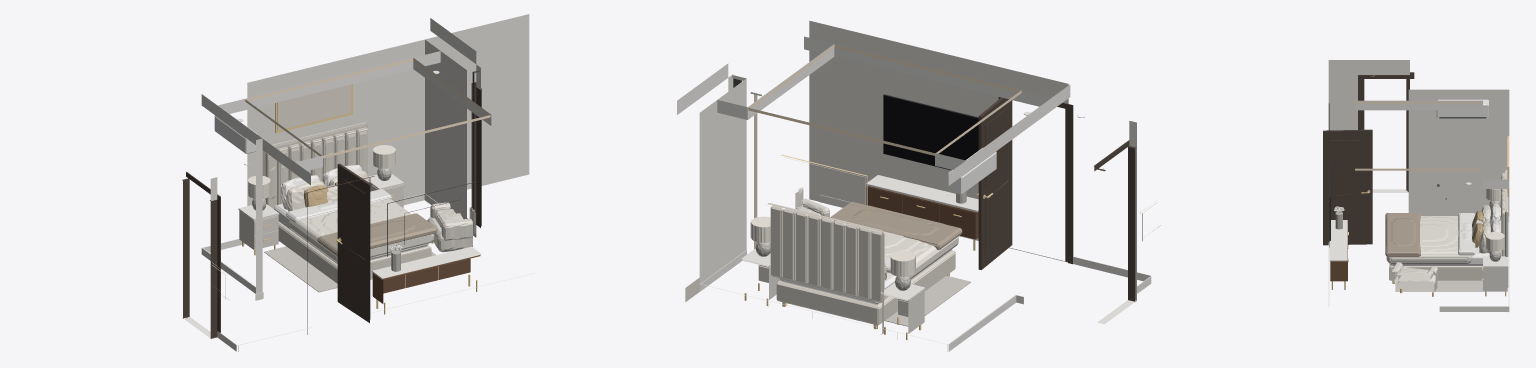
Rendered from MASTER.glb.
3 renders of one model, left to right at view 1: azimuth 30°, elevation 25°; view 2: azimuth 150°, elevation 25°; view 3: azimuth 270°, elevation 25°, orthographic. The views are drawn at different scales.
Parts seen in each view (by area): view 1: WEB_MASTER; view 2: WEB_MASTER; view 3: WEB_MASTER.
Boxes of the visible parts, box(x1,y1,x2,y2) form: WEB_MASTER: box(182, 14, 534, 351); WEB_MASTER: box(677, 20, 1160, 351); WEB_MASTER: box(1323, 60, 1509, 311).
Size of the model in its own units: 8.4 by 2.91 by 3.51.
